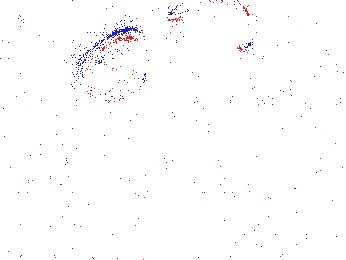moon jellyfish: (235, 70, 346, 138), (75, 28, 153, 102), (166, 1, 254, 53), (1, 2, 32, 98)
